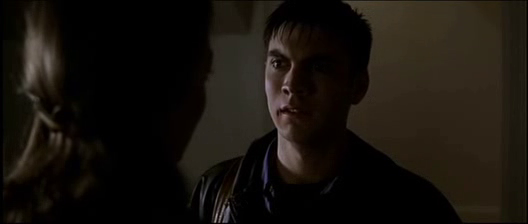cu: (1, 1, 528, 224)
face: (266, 37, 340, 140)
ots: (1, 1, 214, 224)
person: (189, 1, 464, 224)
